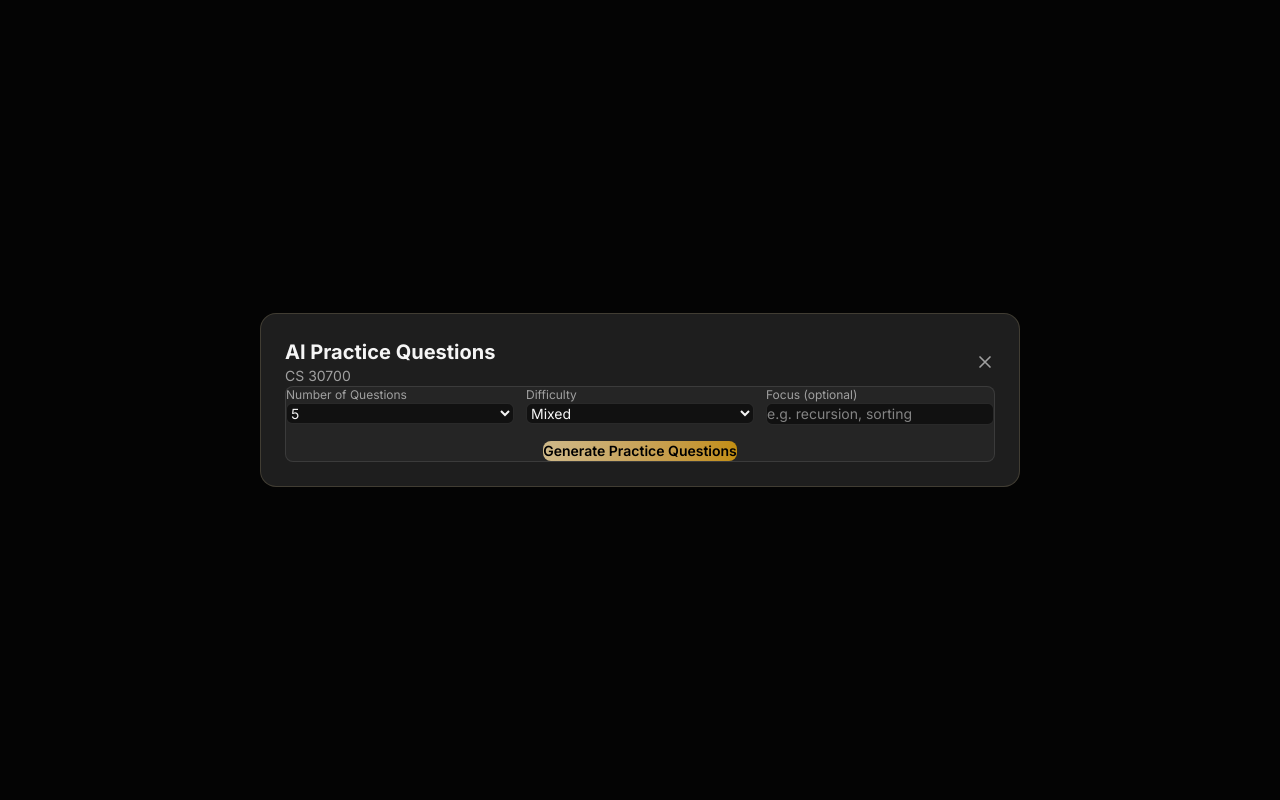
Test: PracticeQuestions › reveals answer only after user clicks reveal button
The image size is (1280, 800).
Click the button "Generate Practice Questions" at (640, 451), box left=543, top=441, right=737, bottom=461
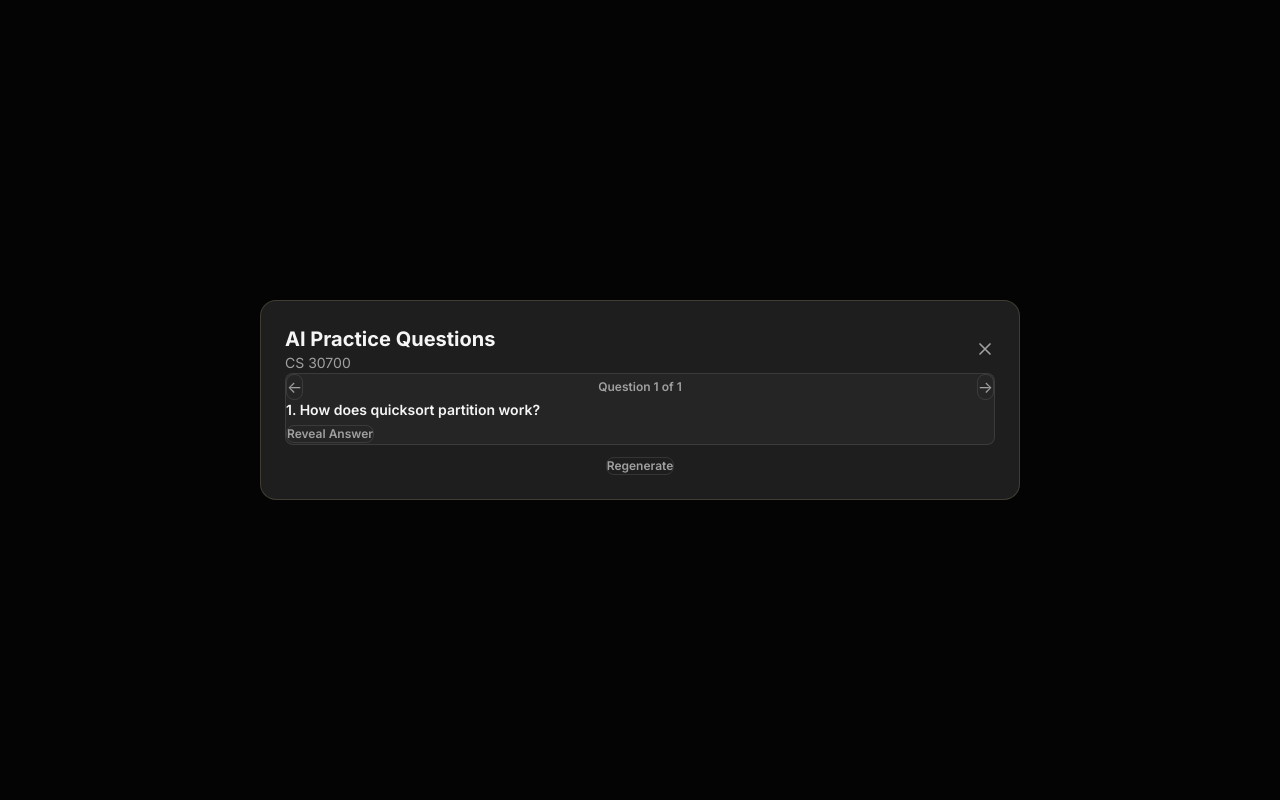
Check: the text "1. How does quicksort partition work?" is shown, box left=286, top=401, right=540, bottom=418
Click the button "Reveal Answer" at (330, 434), box left=286, top=425, right=374, bottom=443
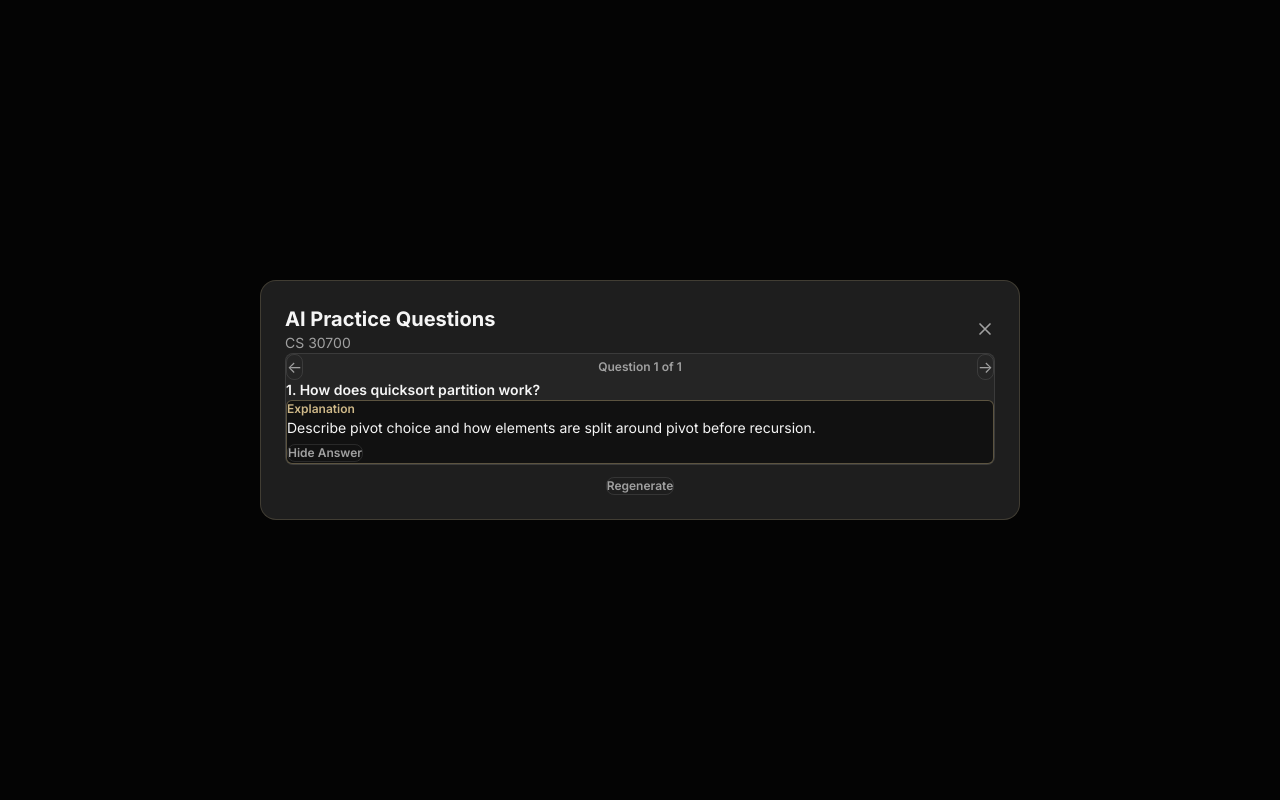
Check: the text "Explanation" is shown, box left=287, top=401, right=355, bottom=416
Check: the text "Describe pivot choice and how elements are split around pivot before recursion." is shown, box left=287, top=419, right=816, bottom=436
Check: the button "Hide Answer" is shown, box left=287, top=444, right=363, bottom=462
